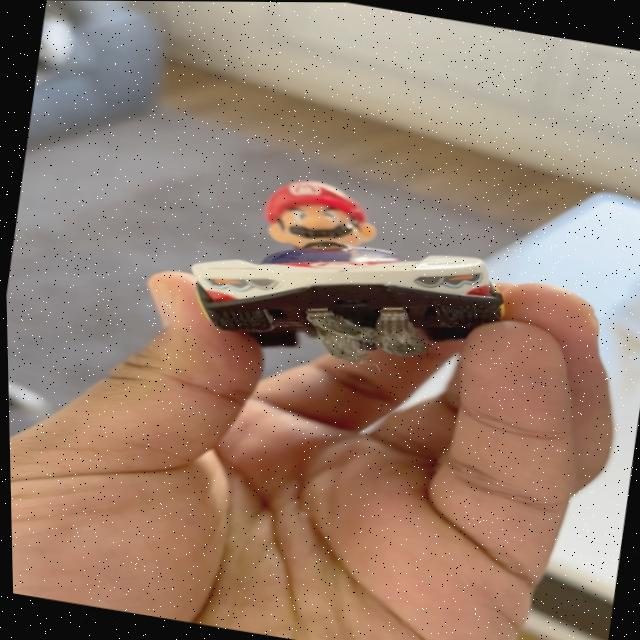mario: (152, 156, 547, 407)
